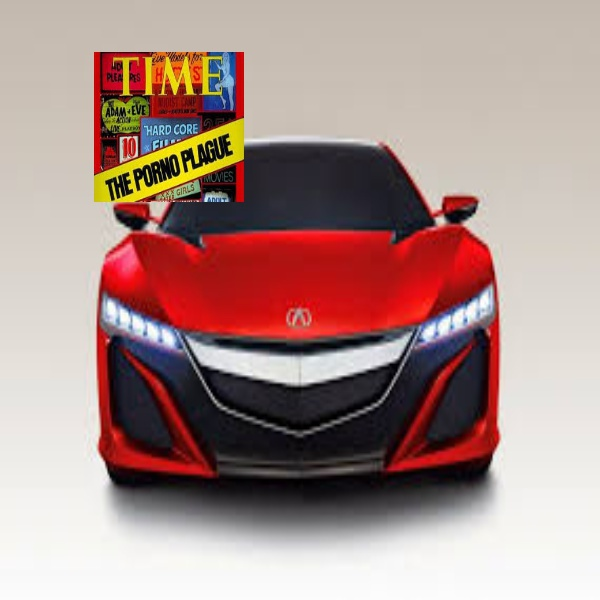time_cover: (93, 43, 245, 207)
